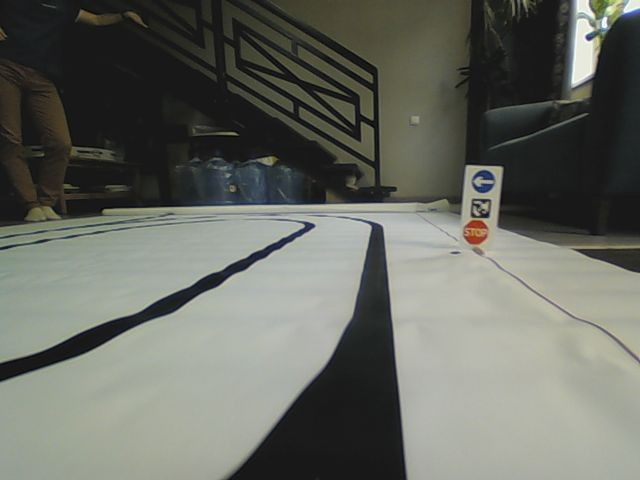Stop: (461, 219, 489, 246)
